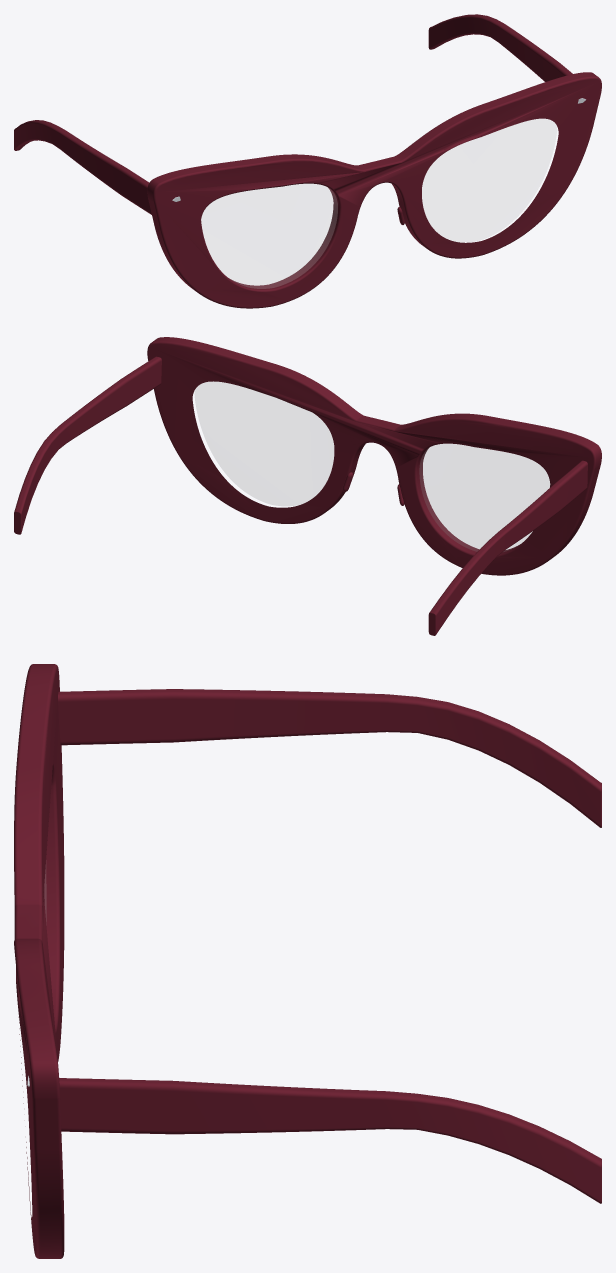
Rendered from velvet_c3.glb.
The picture shows the model from 3 angles, top to bottom: view 1: azimuth 30°, elevation 25°; view 2: azimuth 150°, elevation 25°; view 3: azimuth 270°, elevation 25°; orthographic projection. The views are drawn at different scales.
Parts seen in each view (by area): view 1: VELVET_C3; view 2: VELVET_C3; view 3: VELVET_C3.
Part boxes in pixels (box(x1,y1,x2,y2)): VELVET_C3: box(14, 14, 601, 308); VELVET_C3: box(14, 337, 601, 635); VELVET_C3: box(14, 664, 601, 1258).
Bounding box in the file's own units: 1.02 × 0.3355 × 0.621.
